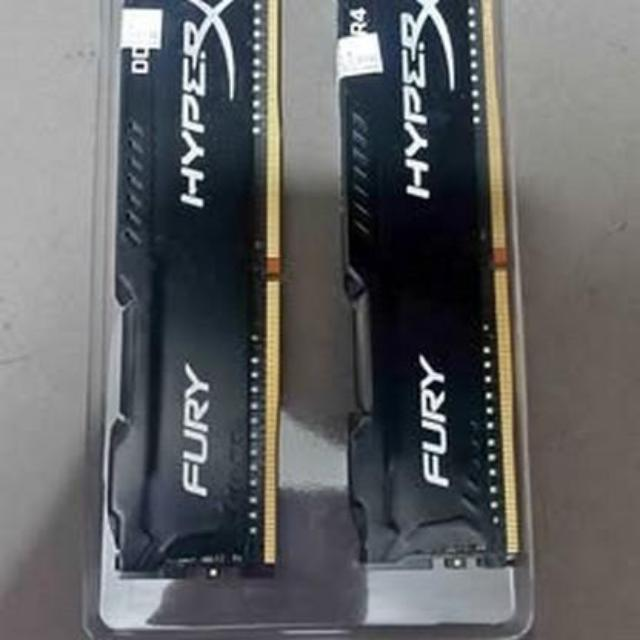RAM: (326, 0, 531, 571), (112, 0, 286, 578)
